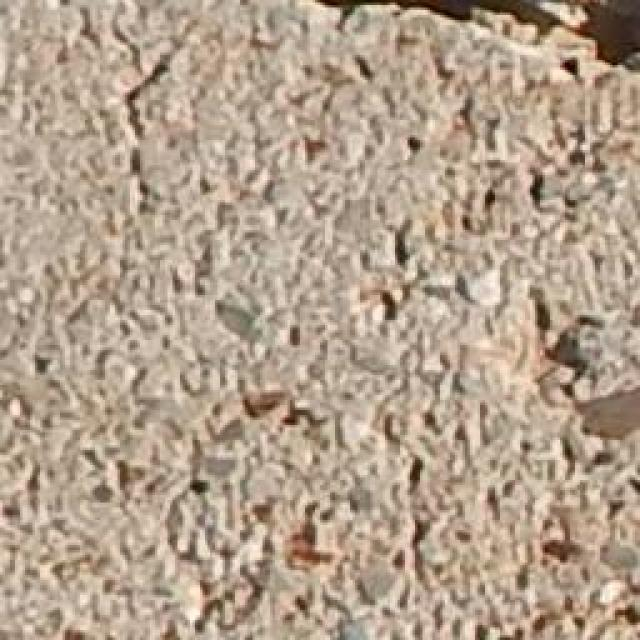concrete-crack: (302, 0, 640, 89)
